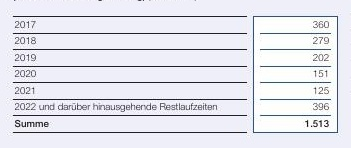table: (0, 0, 351, 148)
